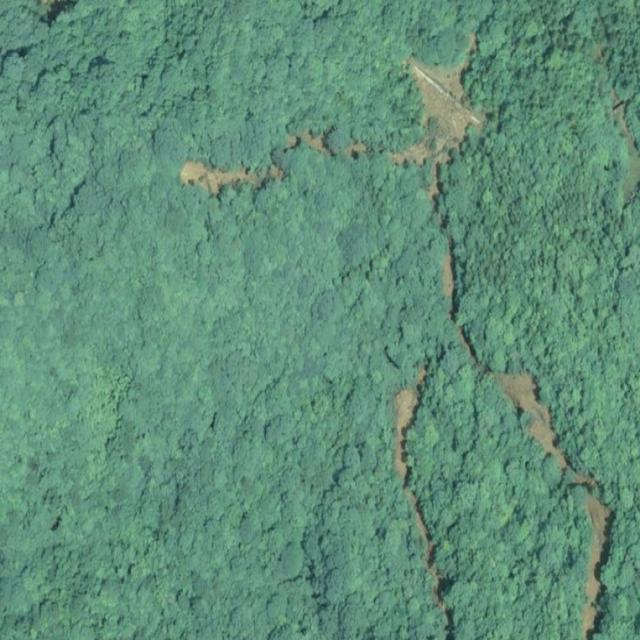landslide: (489, 372, 613, 639), (392, 54, 485, 164), (180, 159, 284, 195)
